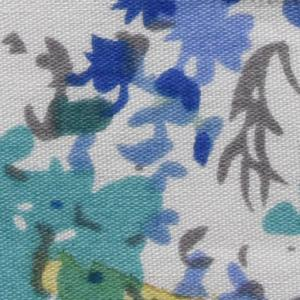Oil Stain: (32, 248, 211, 300)
